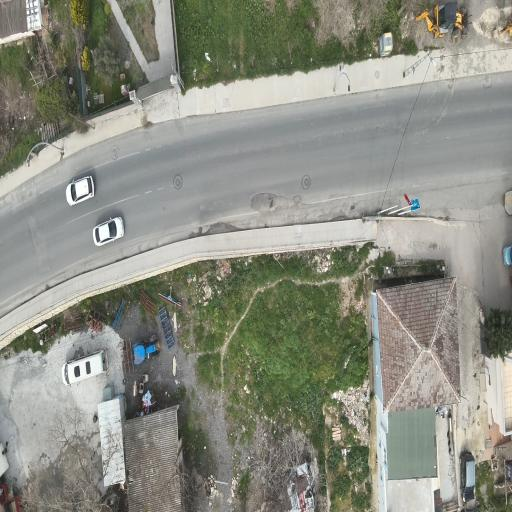car: (62, 349, 107, 385), (66, 176, 94, 205), (94, 218, 123, 246), (503, 246, 511, 265), (85, 362, 91, 374)
tractors: (133, 336, 160, 365)
